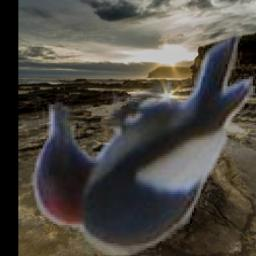Woodpecker: (26, 29, 256, 256)
